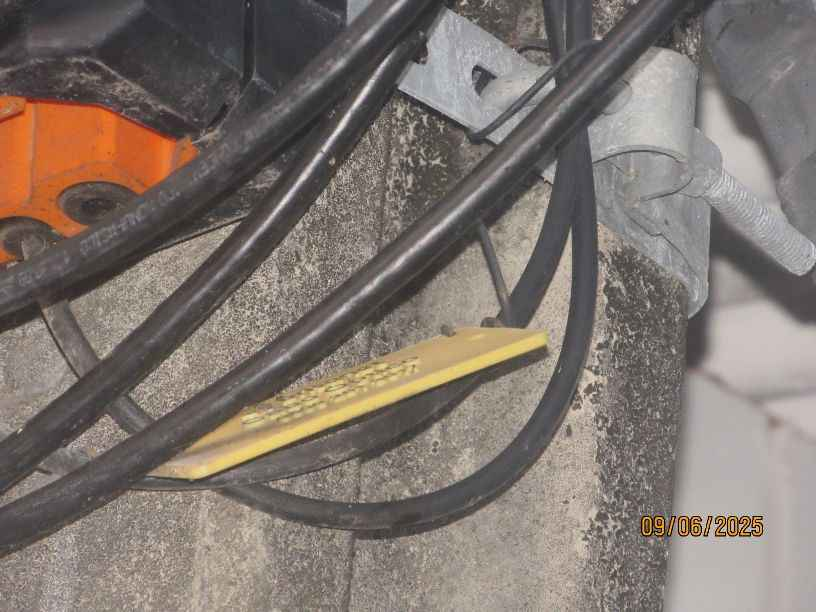fibra_optica: (135, 298, 565, 499)
